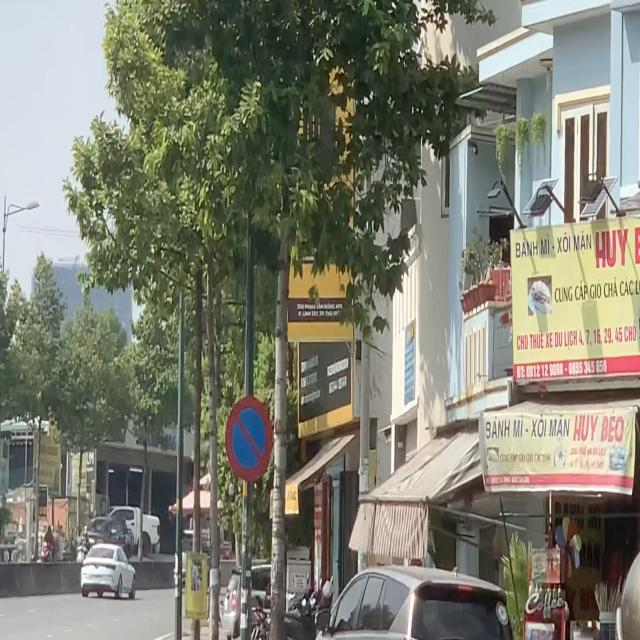Cam do: (225, 395, 273, 483)
